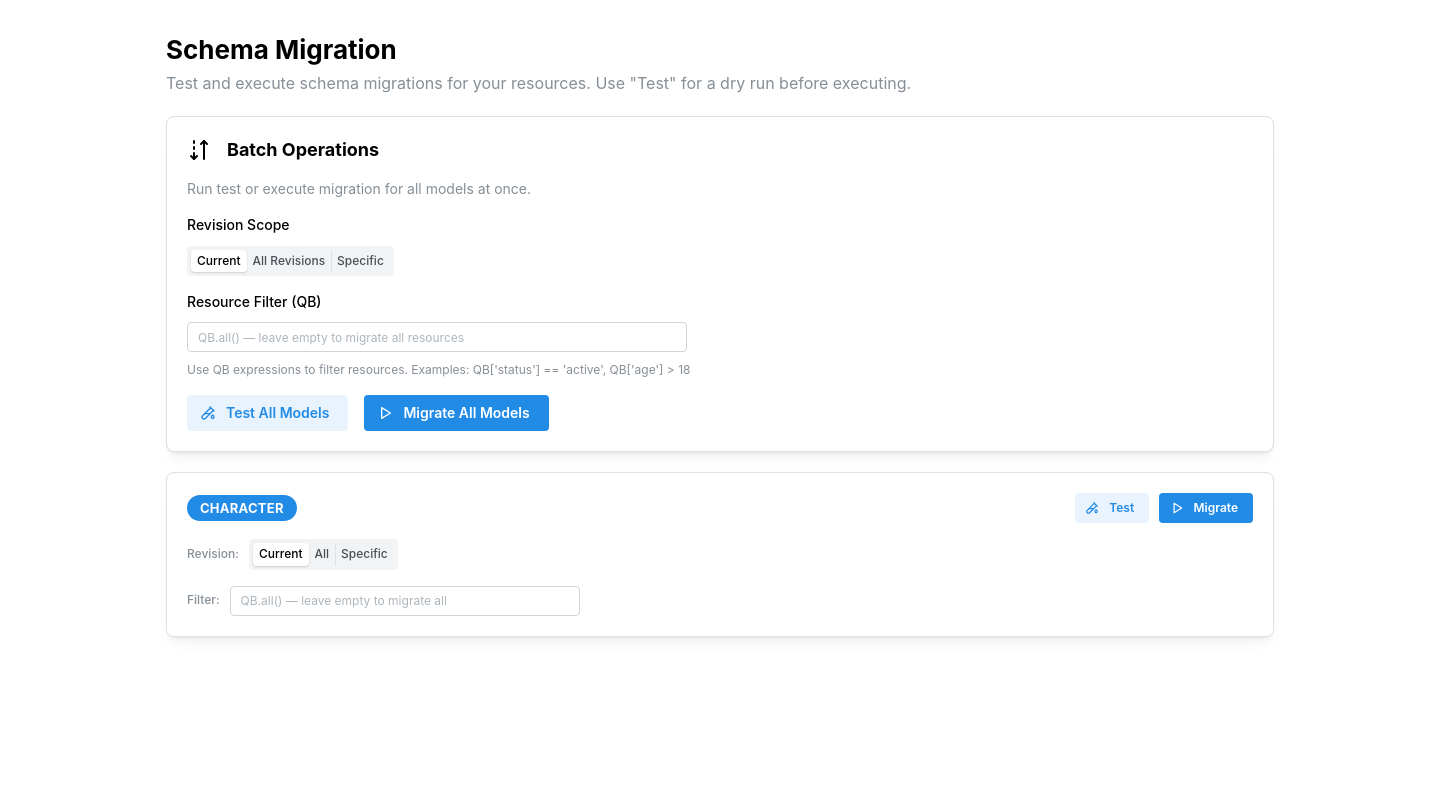
Scenario: MigrationStatus › table display limit › truncates error details to 100 rows and shows count message
The image size is (1440, 800).
Click the button "Test" at (1112, 508), box [1075,493,1149,523]
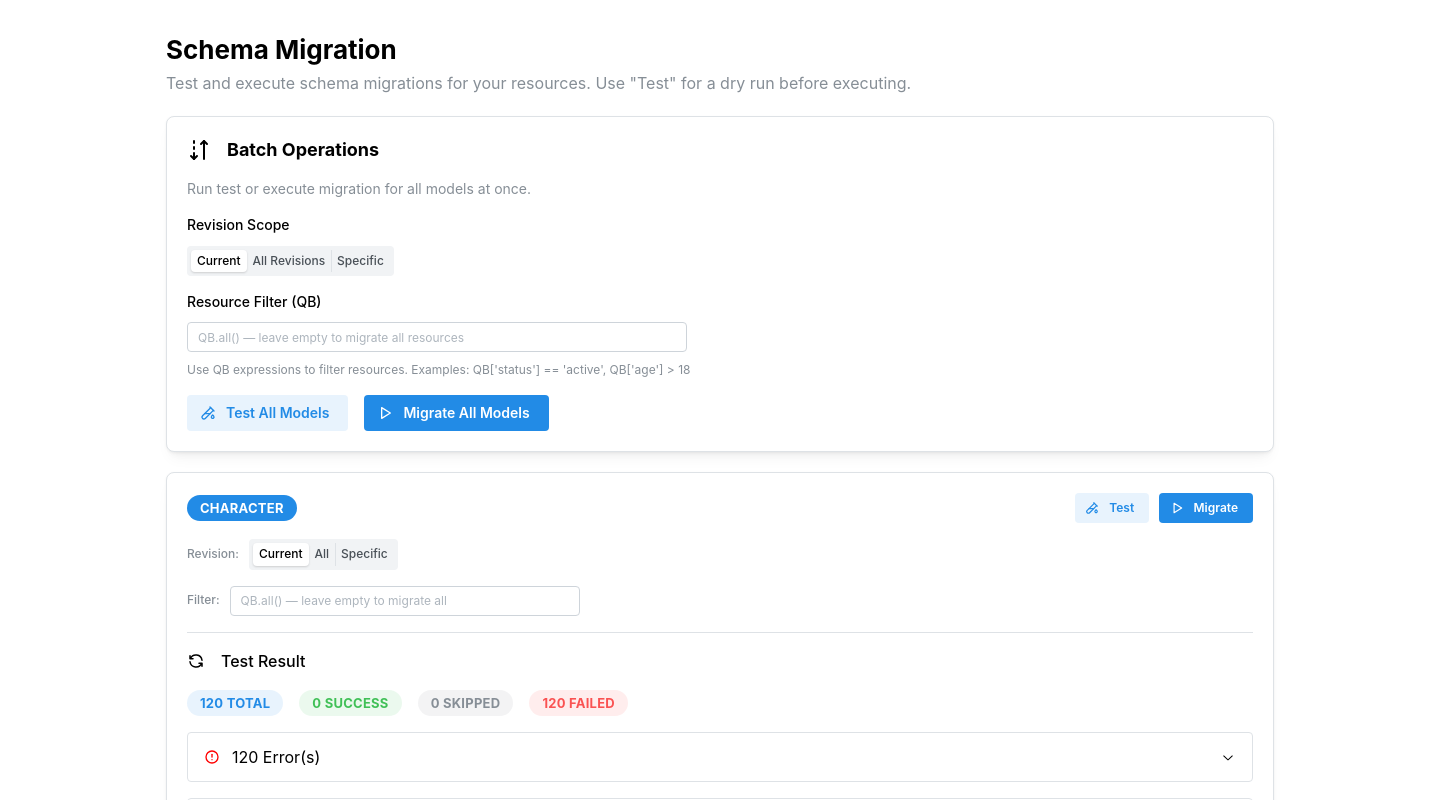
# Expand the errors accordion
Click the button "120 Error(s)" at (289, 757), box [188,733,1252,782]
(page scrolled)
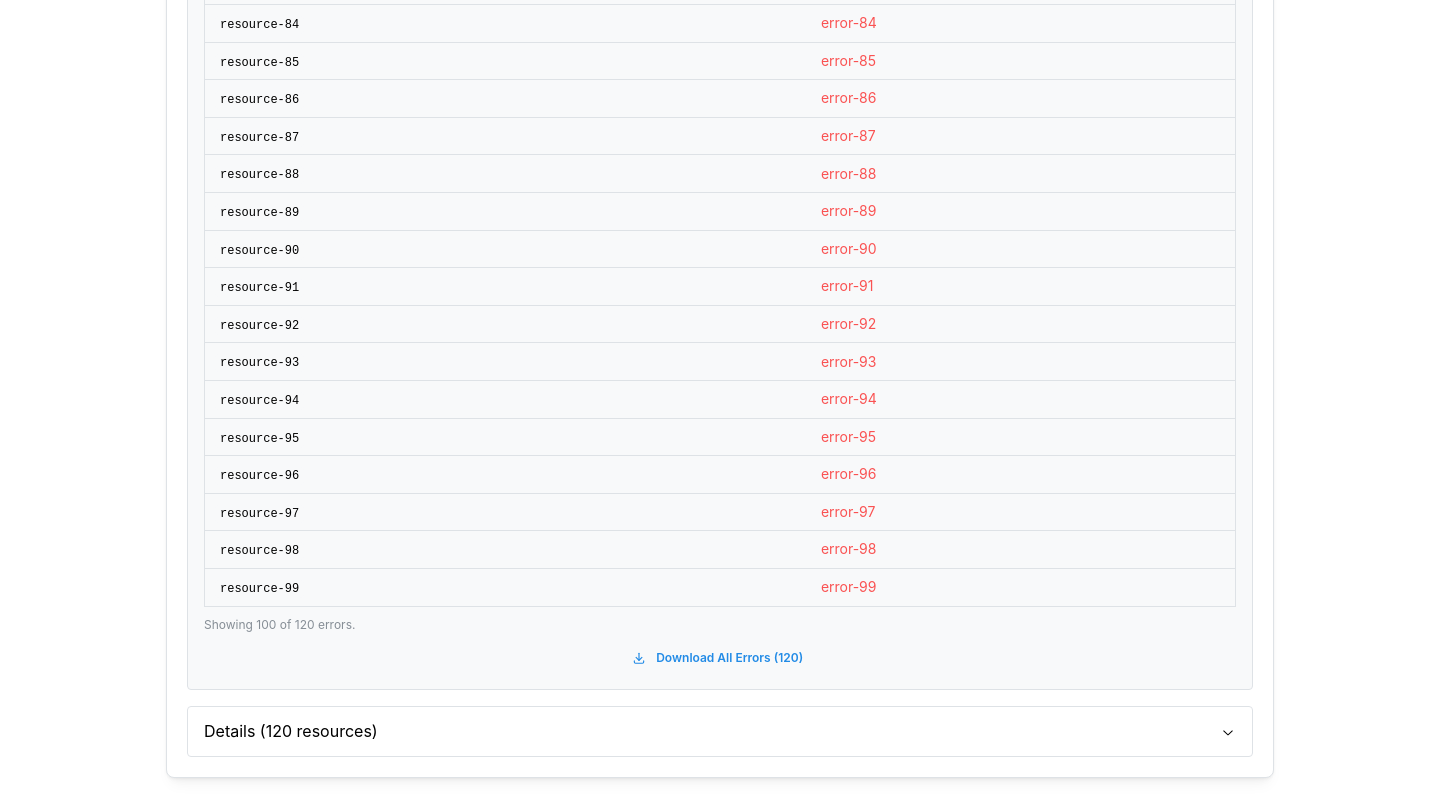
Now the text "Showing 100 of 120 errors." is shown, box [204,616,355,632]
